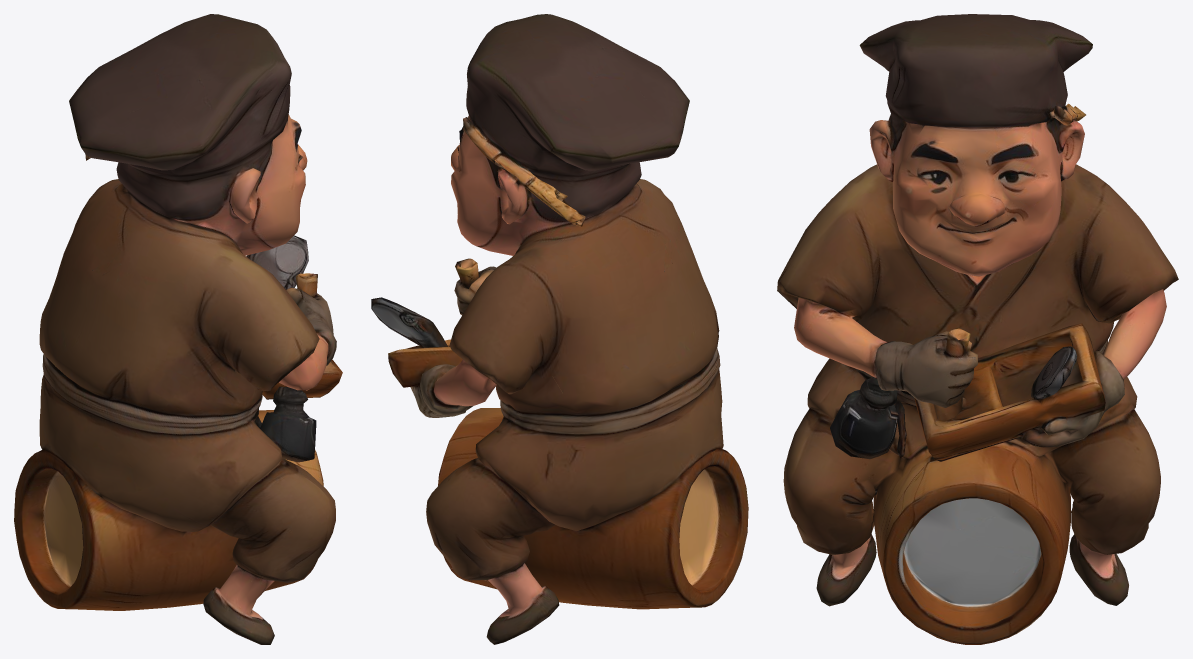
The model's file is n_mujiang.glb.
3 renders of one model, left to right at view 1: azimuth 30°, elevation 25°; view 2: azimuth 150°, elevation 25°; view 3: azimuth 270°, elevation 25°, orthographic. The views are drawn at different scales.
Visible parts, largest first — view 1: tripo_node_5133a47b-9ff2-48cb-be77-c5a2f3084536; view 2: tripo_node_5133a47b-9ff2-48cb-be77-c5a2f3084536; view 3: tripo_node_5133a47b-9ff2-48cb-be77-c5a2f3084536.
Boxes of the visible parts, x1,y1,x2,y2 form: tripo_node_5133a47b-9ff2-48cb-be77-c5a2f3084536: (14, 14, 342, 644); tripo_node_5133a47b-9ff2-48cb-be77-c5a2f3084536: (371, 14, 748, 644); tripo_node_5133a47b-9ff2-48cb-be77-c5a2f3084536: (777, 14, 1178, 644).
Size of the model in its own units: 0.5718 by 1 by 0.6094.
Materials: 1 (1 with a texture image).
